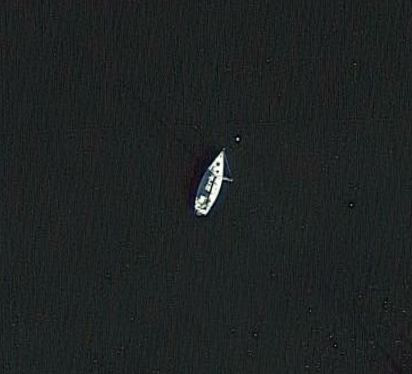boat: (190, 147, 228, 219)
